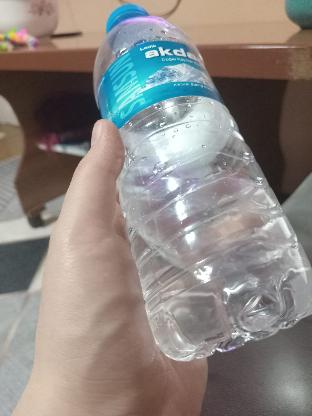Plastic Bottle: (80, 0, 312, 356)
